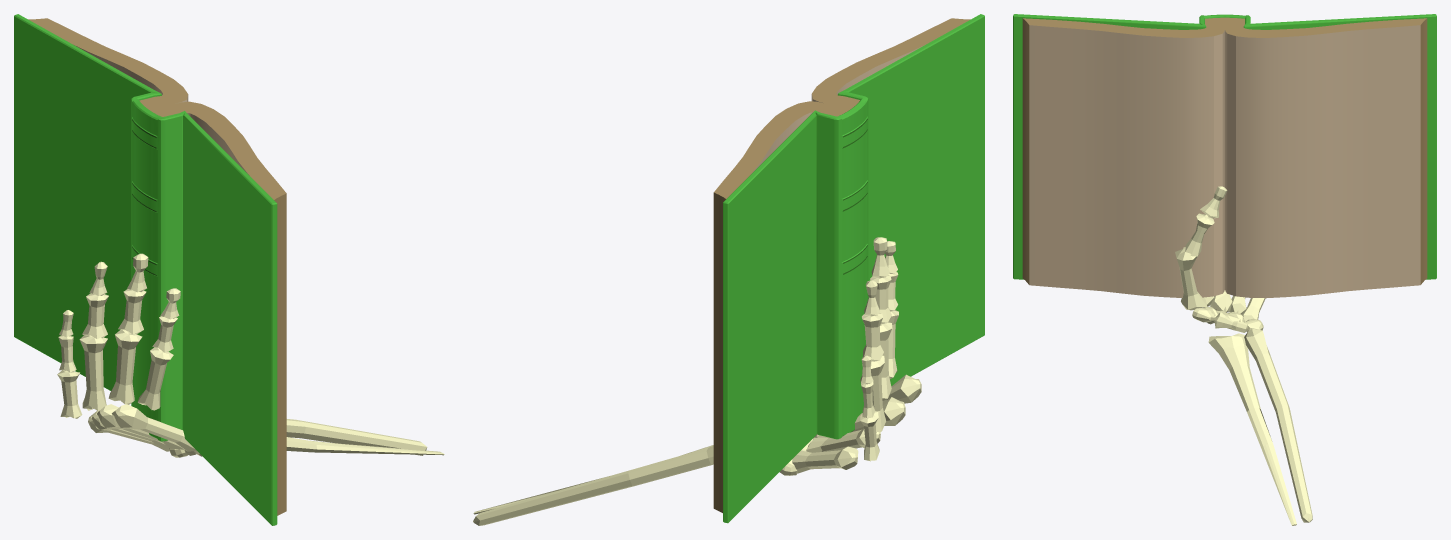
Rendered from hand holding book merged.fbx.
3 renders of one model, left to right at view 1: azimuth 30°, elevation 25°; view 2: azimuth 150°, elevation 25°; view 3: azimuth 270°, elevation 25°, orthographic. The views are drawn at different scales.
Parts seen in each view (by area): view 1: book content; view 2: book content; view 3: book content.
Part boxes in pixels (<box>): book content: <box>14,14,444,525</box>; book content: <box>473,14,984,525</box>; book content: <box>1013,14,1436,525</box>.
Bounding box in the file's own units: 84.75 × 94.73 × 96.26.
